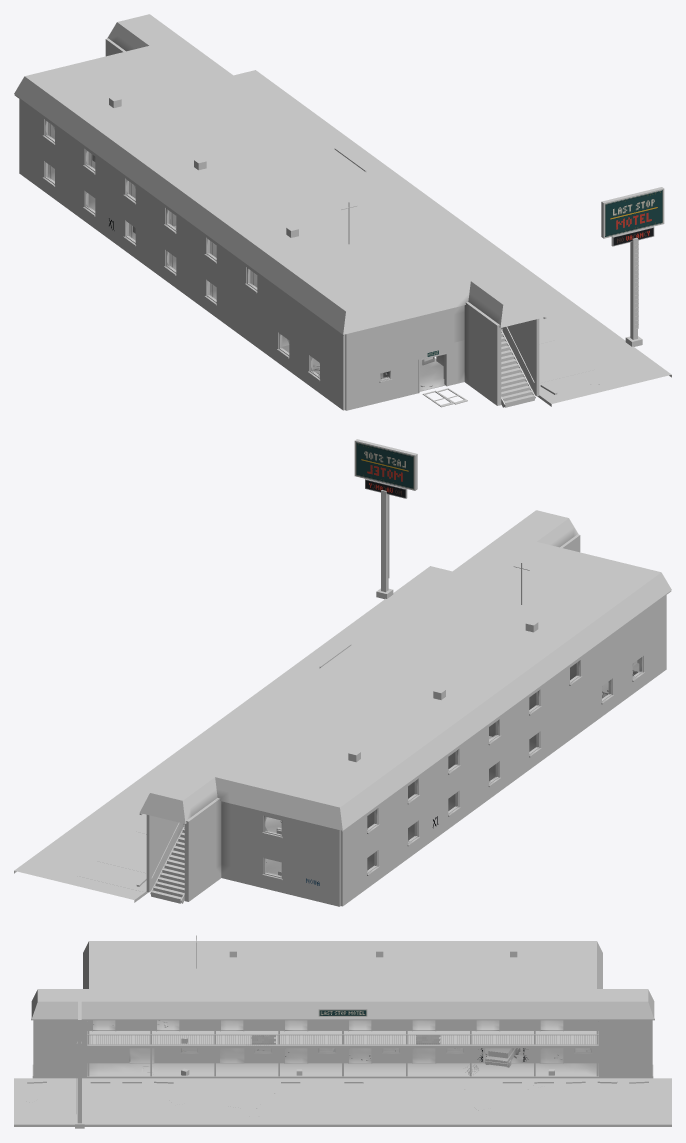
The model's file is motel.glb.
3 views of the same model, one above another, from view 1: azimuth 30°, elevation 25°; view 2: azimuth 150°, elevation 25°; view 3: azimuth 270°, elevation 25° (orthographic). The views are drawn at different scales.
Parts seen in each view (by area): view 1: motel; view 2: motel; view 3: motel.
Part boxes in pixels (bbox=[...]): motel: bbox=[14, 14, 671, 410]; motel: bbox=[14, 439, 671, 906]; motel: bbox=[14, 935, 671, 1128].
Size of the model in its own units: 23.82 by 10.97 by 54.
Materials: 4 (3 with a texture image).
